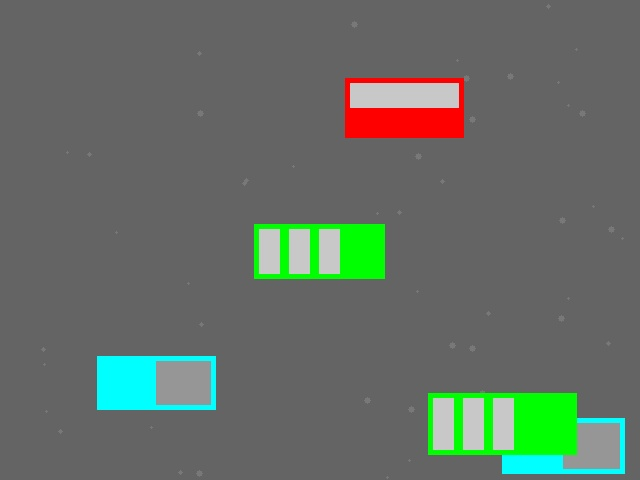bus: (428, 393, 576, 454), (254, 224, 384, 278)
car: (345, 78, 463, 137)
truck: (502, 418, 624, 473), (97, 356, 215, 409)
